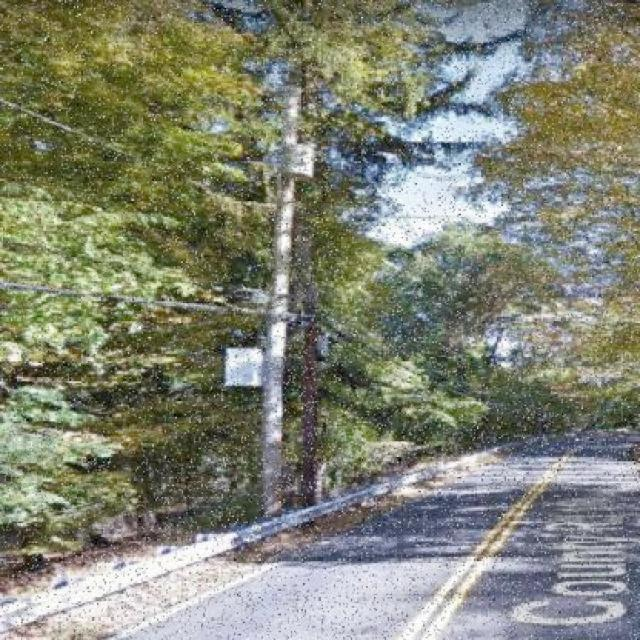pole: (265, 90, 299, 517)
transformer: (225, 348, 266, 389), (290, 142, 314, 178)
wire: (0, 284, 272, 314)
